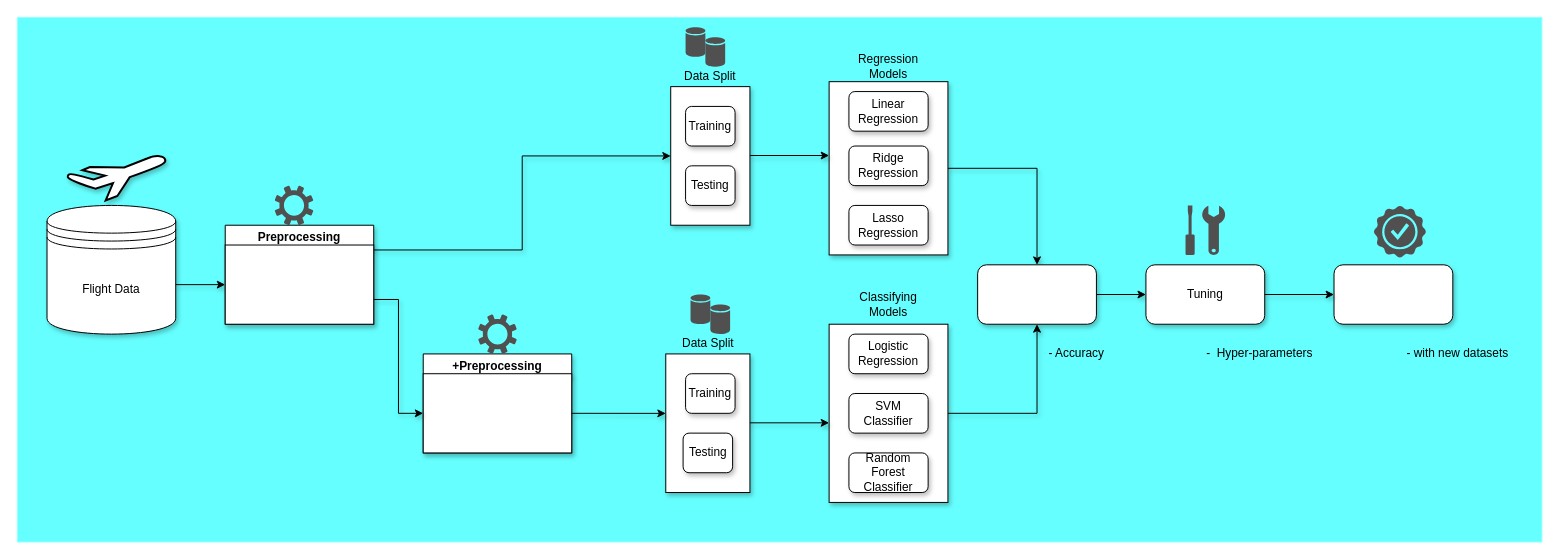
Image size: 1559x559. Some labels were removed from this diagram. Each missing label, with the centre of its shape:
- Format - Null values - Re-scaling: the point at 300,285
Compare Models: the point at 1037,295
Test: the point at 1394,295
Thresholding DEP_DELAY < 5min = 0 DEP_DELAY > 5min = 1: the point at 498,414
